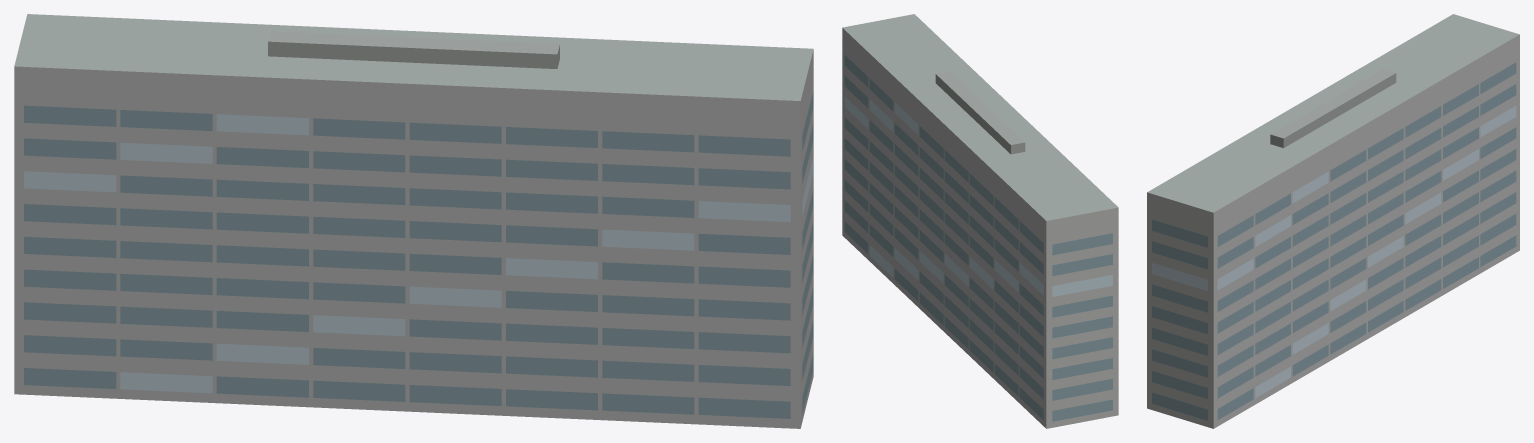
File: fallback-olympic-athletes-village-247.glb
3 renders of one model, left to right at view 1: azimuth 30°, elevation 25°; view 2: azimuth 150°, elevation 25°; view 3: azimuth 270°, elevation 25°, orthographic. The views are drawn at different scales.
Parts seen in each view (by area): view 1: fallback-olympic-athletes-village-247; view 2: fallback-olympic-athletes-village-247; view 3: fallback-olympic-athletes-village-247.
Part boxes in pixels (x1=…): fallback-olympic-athletes-village-247: x1=14, y1=14, x2=813, y2=428; fallback-olympic-athletes-village-247: x1=842, y1=14, x2=1118, y2=428; fallback-olympic-athletes-village-247: x1=1147, y1=14, x2=1519, y2=428.
Size of the model in its own units: 60.14 by 31.87 by 47.66.
